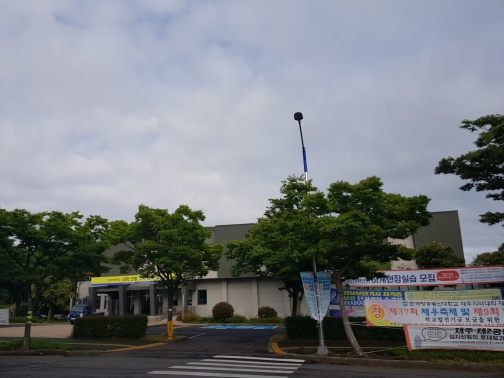Gym: (88, 231, 296, 322)
